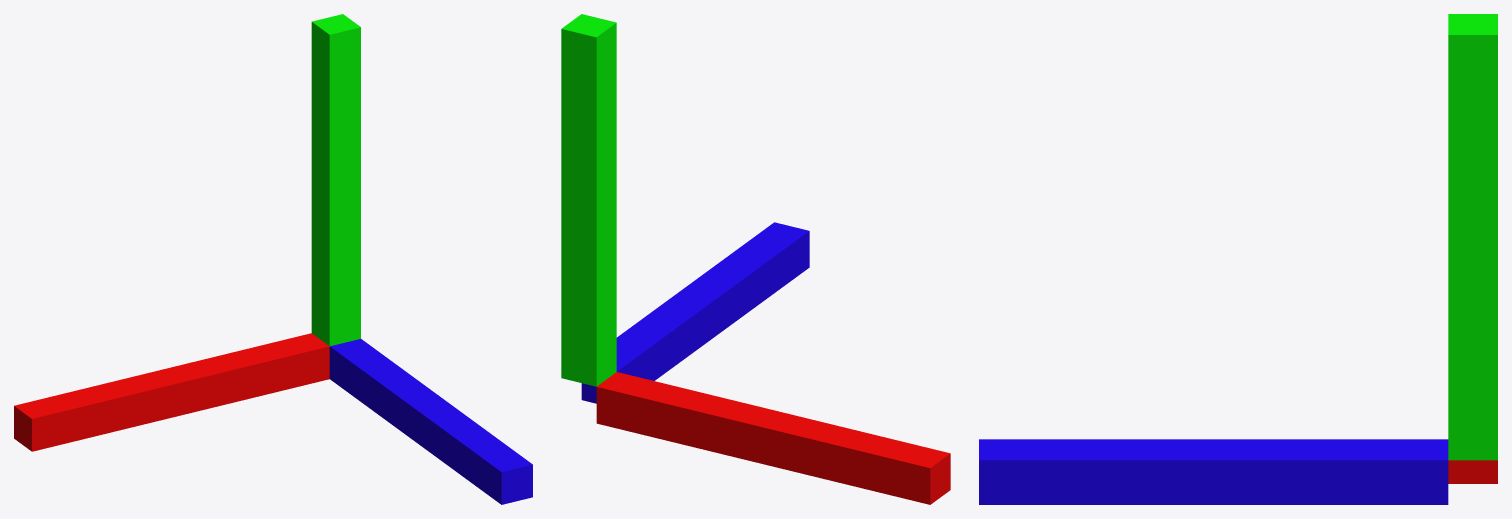
The model's file is axis.obj.
3 renders of one model, left to right at view 1: azimuth 30°, elevation 25°; view 2: azimuth 150°, elevation 25°; view 3: azimuth 270°, elevation 25°, orthographic. The views are drawn at different scales.
Parts seen in each view (by area): view 1: y, x, z; view 2: y, x, z; view 3: z, y, x.
Part boxes in pixels (box(x1,y1,x2,y2)): y: box(311, 14, 360, 346); x: box(14, 333, 329, 451); z: box(329, 339, 532, 504); y: box(561, 14, 616, 386); x: box(596, 372, 950, 504); z: box(581, 222, 809, 403); z: box(979, 439, 1448, 504); y: box(1448, 14, 1497, 460); x: box(1448, 460, 1497, 483).
Bounding box in the file's own units: 10.5 × 10.5 × 10.5.
